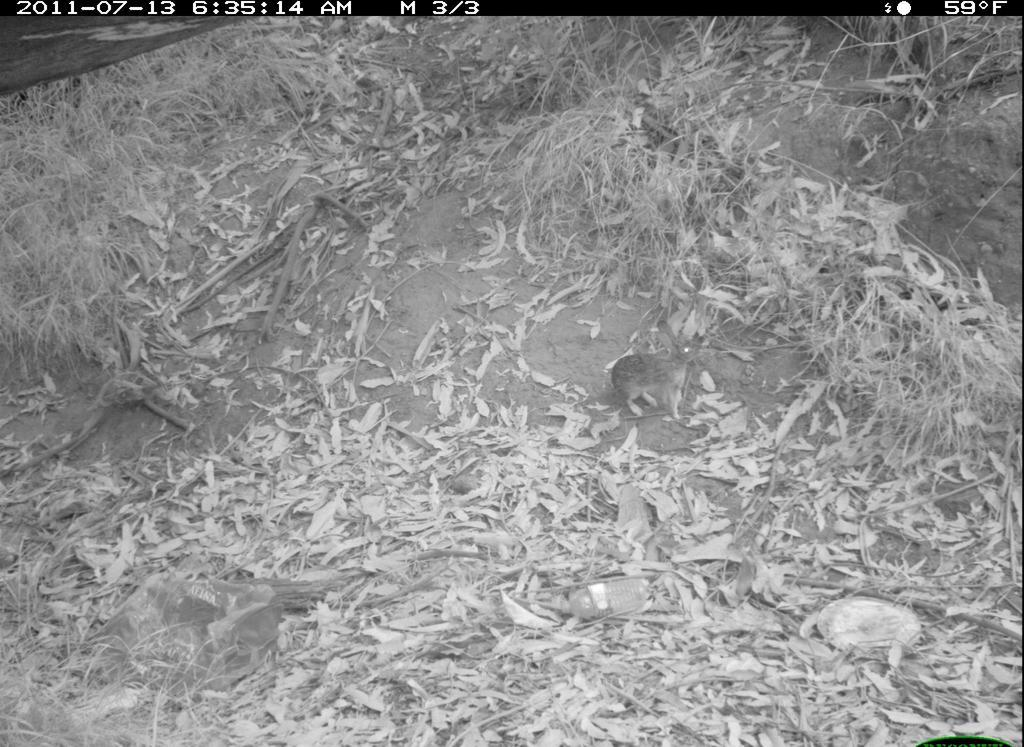rabbit: (603, 316, 708, 425)
